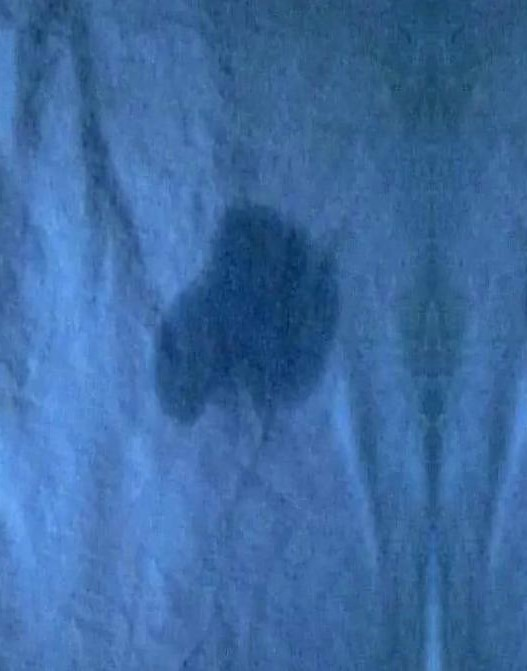stain: (131, 185, 357, 438)
